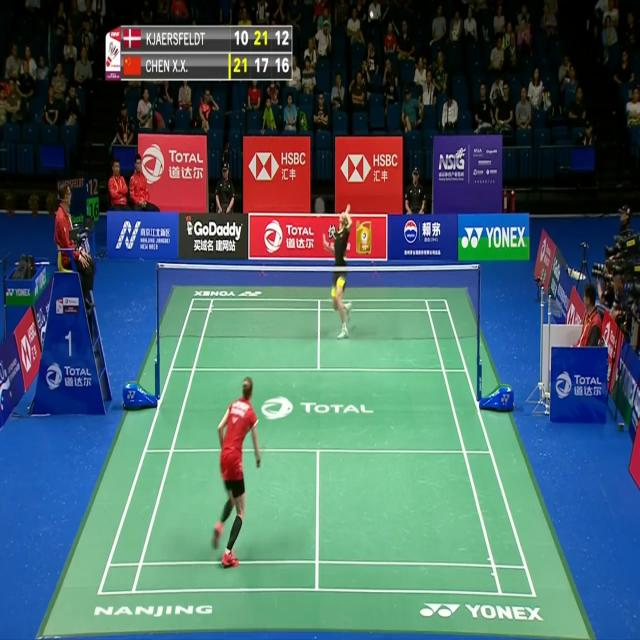Player1: (209, 370, 265, 578)
Player2: (321, 196, 357, 350)
